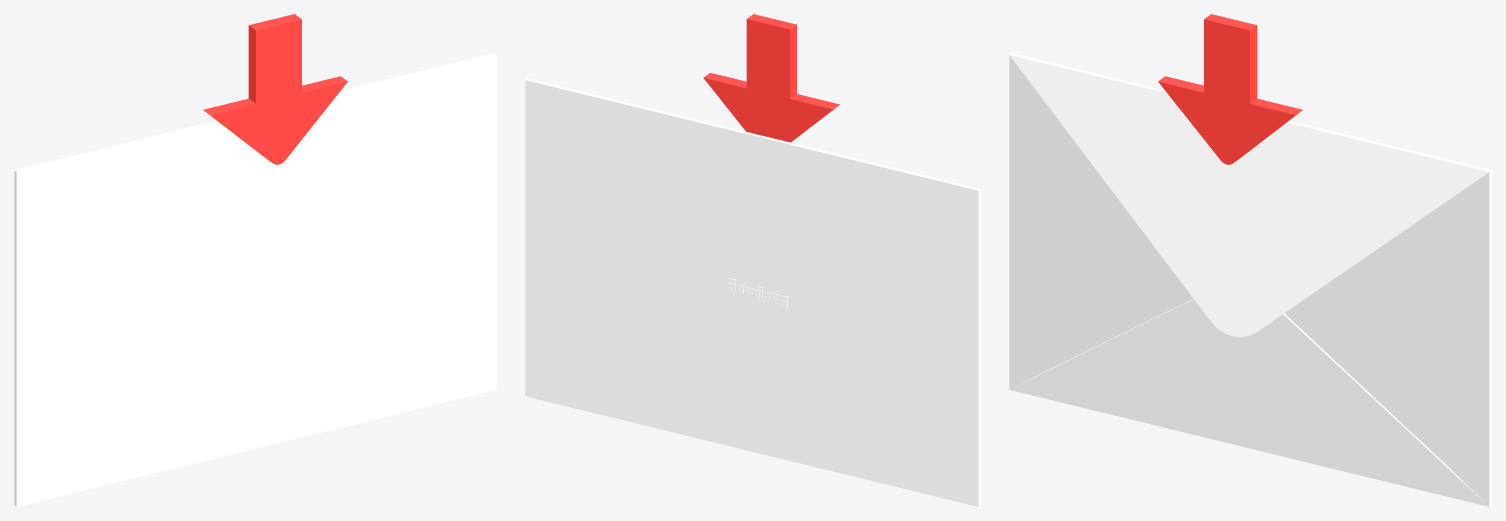
The model's file is envelope_with_arrow.gltf.
3 renders of one model, left to right at view 1: azimuth 30°, elevation 25°; view 2: azimuth 150°, elevation 25°; view 3: azimuth 330°, elevation 25°, orthographic. The views are drawn at different scales.
Parts seen in each view (by area): view 1: Plane.335; view 2: Plane.335; view 3: Plane.335.
Part boxes in pixels (box(x1,y1,x2,y2)): Plane.335: box(14, 14, 496, 506); Plane.335: box(525, 14, 980, 506); Plane.335: box(1009, 14, 1491, 506).
Bounding box in the file's own units: 2.34 × 2.05 × 0.2135.
1 material, 1 textured.
